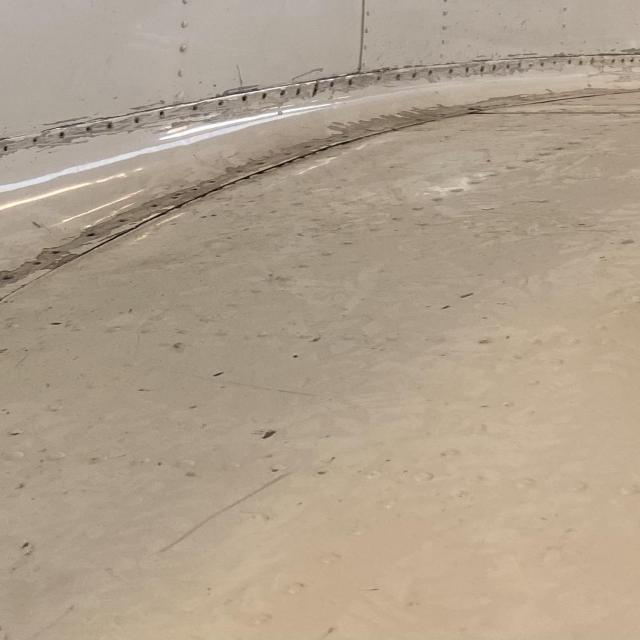Missing-head: (79, 125, 97, 140), (28, 136, 46, 146), (1, 143, 13, 155), (57, 130, 69, 142)
Paint-off: (604, 68, 640, 87), (619, 48, 640, 53)
Scratch: (0, 94, 518, 346), (0, 36, 576, 182), (283, 66, 327, 83), (232, 60, 247, 90)
